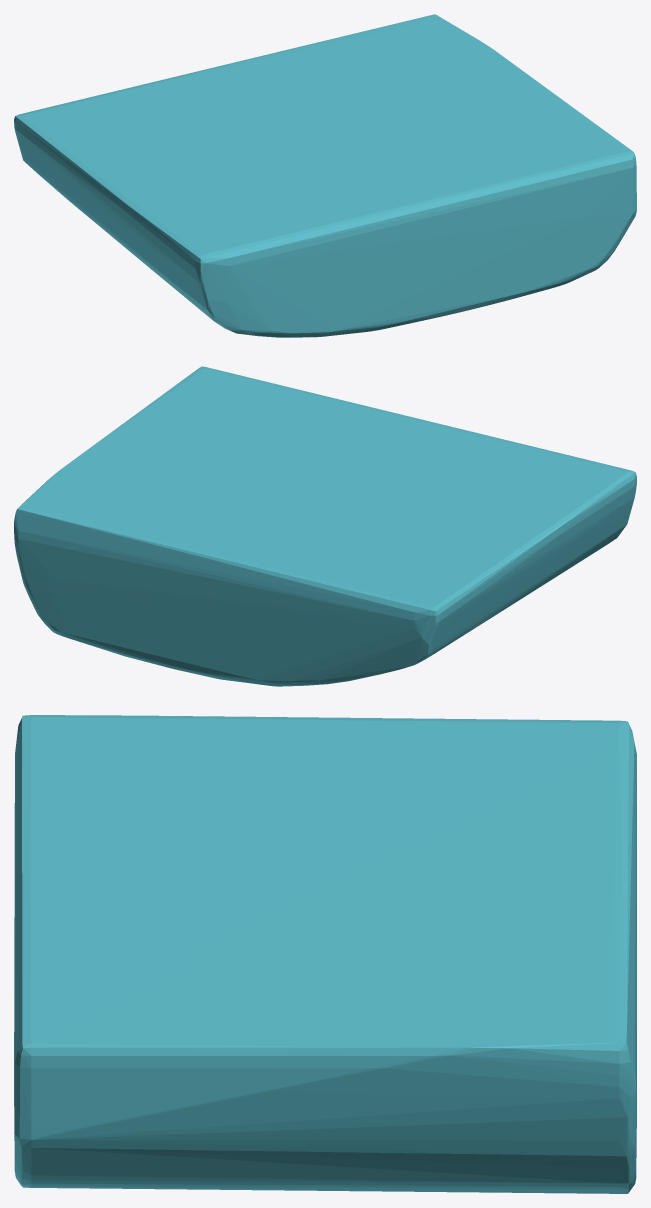
3 renders of one model, top to bottom at view 1: azimuth 30°, elevation 25°; view 2: azimuth 150°, elevation 25°; view 3: azimuth 270°, elevation 25°, orthographic. The views are drawn at different scales.
Bounding box in the file's own units: 0.1841 × 0.0492 × 0.1442.
